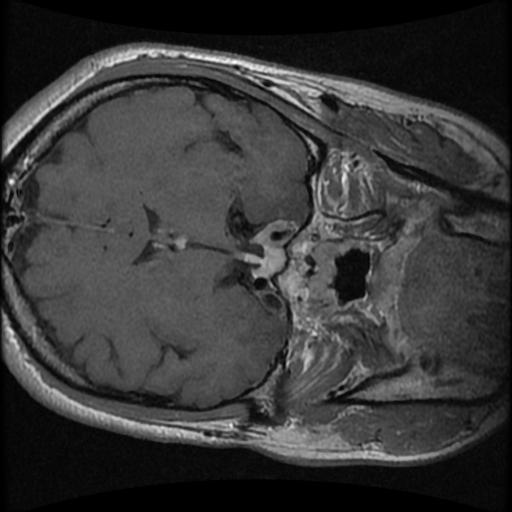pituitary tumour: (249, 220, 291, 279)
